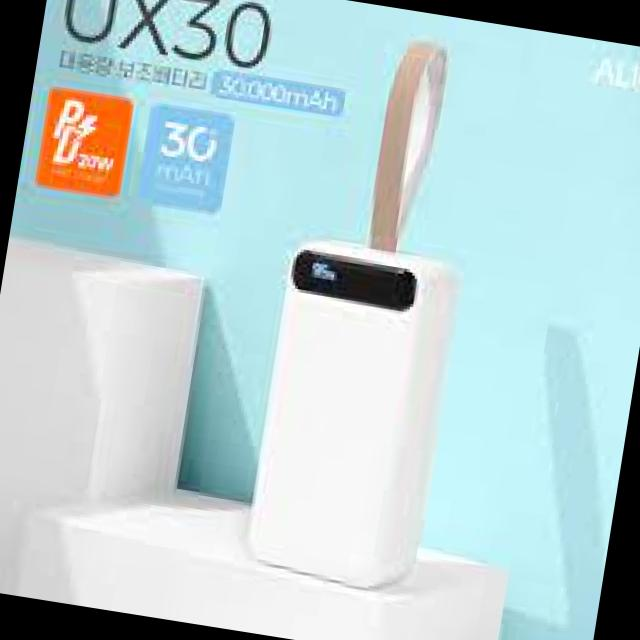power_bank: (242, 233, 472, 600)
